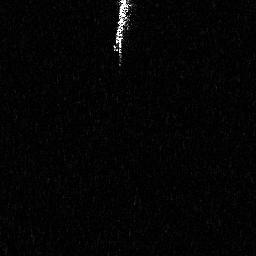ship: (111, 1, 133, 69)
